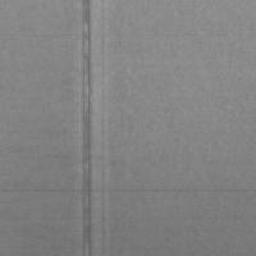Welding line: (83, 0, 92, 165), (83, 168, 92, 256)
